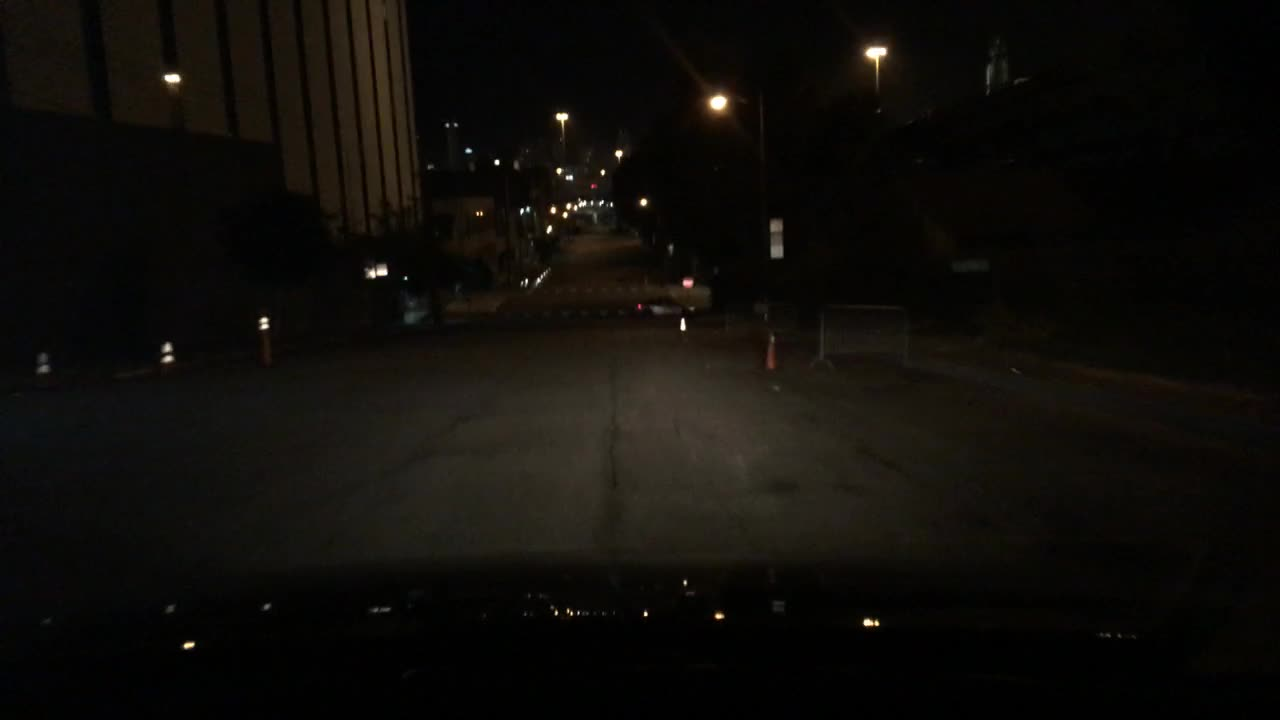car: (632, 292, 686, 315), (576, 208, 611, 228)
traffic sign: (768, 219, 784, 259), (952, 261, 992, 275), (682, 276, 695, 290)
